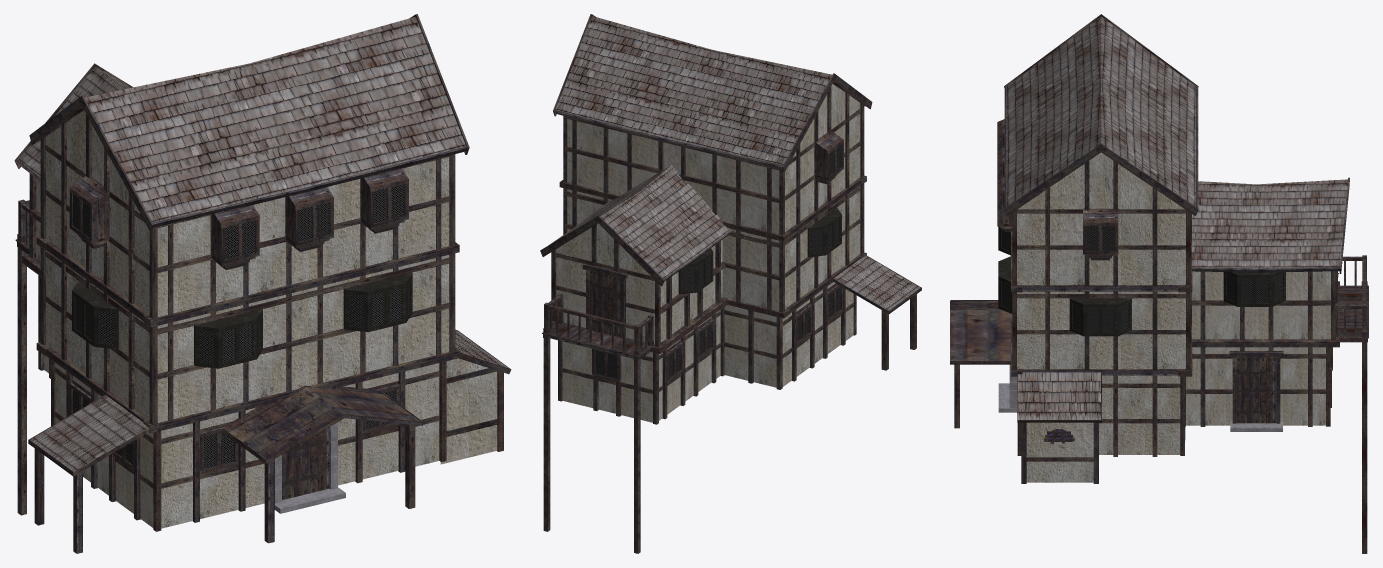
Rendered from thouse17.dae.
3 views of the same model, side by side, from view 1: azimuth 30°, elevation 25°; view 2: azimuth 150°, elevation 25°; view 3: azimuth 270°, elevation 25° (orthographic). The views are drawn at different scales.
Parts seen in each view (by area): view 1: House2_Roof, House2_Level3, House2_Level2, House2_Level1, House2_Level2_Beams, House2_Level3_Beams, House2_Level1_Beams, Roof1Outer, Roof2Outer, BuildingExtensions4, House2_Level2_SeperatorBeams, House2_Roof_Frame (+28 smaller); view 2: House2_Roof, House2_Level3, House5_Roof, House2_Level3_Beams, House2_Level2, House5_Level2, House5_Level1, House2_Level1, House2_Level2_Beams, House5_Level1_Beams, House2_Level1_Beams, House5_Level2_Beams (+18 smaller); view 3: House2_Roof, House2_Level3, House5_Roof, House2_Level2, House5_Level2, House5_Level1, House2_Level1, House2_Level3_Beams, BuildingExtensions4Roof, BuildingExtensions4, Roof1Outer, House2_Level2_Beams (+22 smaller).
Boxes of the visible parts, box(x1,y1,x2,y2) form: House2_Roof: box(85, 16, 465, 222); House2_Level3: box(46, 110, 449, 316); House2_Level2: box(46, 250, 449, 422); House2_Level1: box(55, 363, 439, 528); House2_Level2_Beams: box(40, 247, 455, 424); House2_Level3_Beams: box(40, 114, 455, 318); House2_Level1_Beams: box(51, 360, 446, 531); Roof1Outer: box(224, 385, 420, 459); Roof2Outer: box(30, 395, 148, 471); BuildingExtensions4: box(440, 358, 497, 464); House2_Level2_SeperatorBeams: box(36, 236, 459, 327); House2_Roof_Frame: box(29, 14, 469, 231); House2_Roof: box(555, 16, 832, 165); House2_Level3: box(567, 84, 860, 233); House5_Roof: box(561, 165, 731, 278); House2_Level3_Beams: box(563, 87, 864, 235); House2_Level2: box(567, 186, 860, 310); House5_Level2: box(556, 223, 722, 344); House5_Level1: box(562, 310, 720, 422); House2_Level1: box(724, 282, 853, 387); House2_Level2_Beams: box(563, 183, 864, 312); House5_Level1_Beams: box(558, 307, 724, 424); House2_Level1_Beams: box(724, 283, 856, 389); House5_Level2_Beams: box(551, 224, 725, 346); House2_Roof: box(1006, 16, 1196, 206); House2_Level3: box(1017, 152, 1185, 284); House5_Roof: box(1191, 179, 1348, 268); House2_Level2: box(1017, 291, 1185, 368); House5_Level2: box(1191, 271, 1330, 339); House5_Level1: box(1186, 347, 1325, 425); House2_Level1: box(1099, 375, 1180, 454); House2_Level3_Beams: box(1012, 161, 1191, 285); BuildingExtensions4Roof: box(1018, 372, 1100, 419); BuildingExtensions4: box(1026, 422, 1093, 482); Roof1Outer: box(950, 301, 1010, 360); House2_Level2_Beams: box(1012, 291, 1191, 369).
Bounding box in the file's own units: 11.52 × 11.9 × 14.08.
29 materials, 29 textured.
